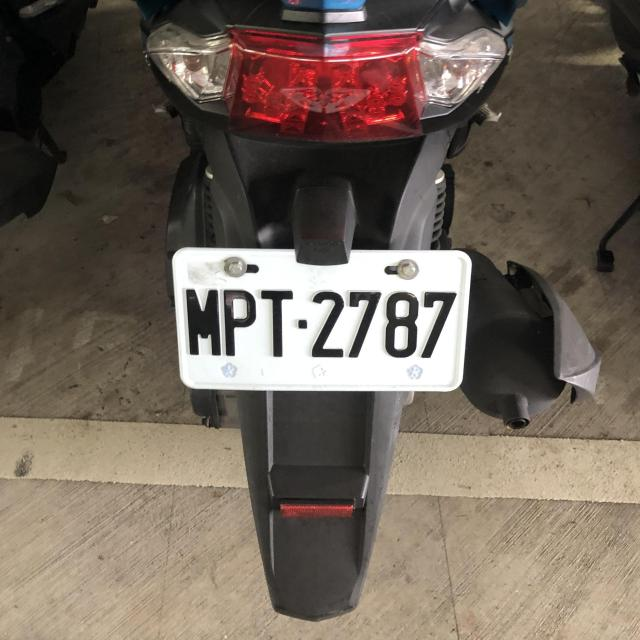W: (168, 239, 472, 395)
